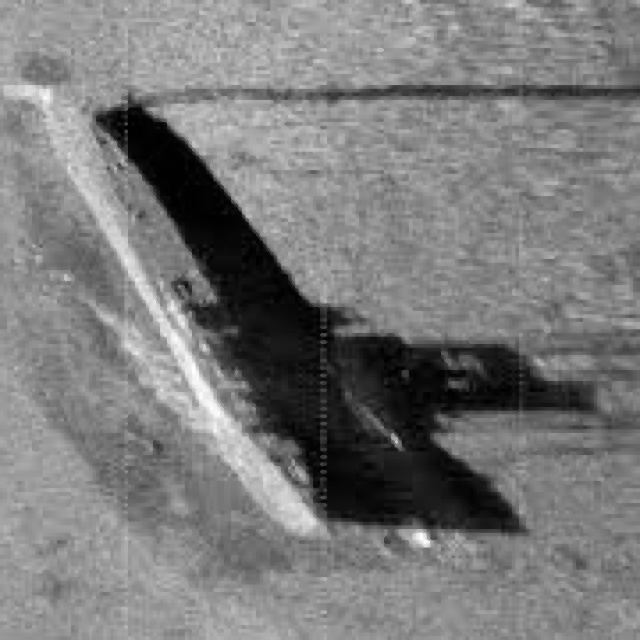Ship: (26, 71, 408, 556)
